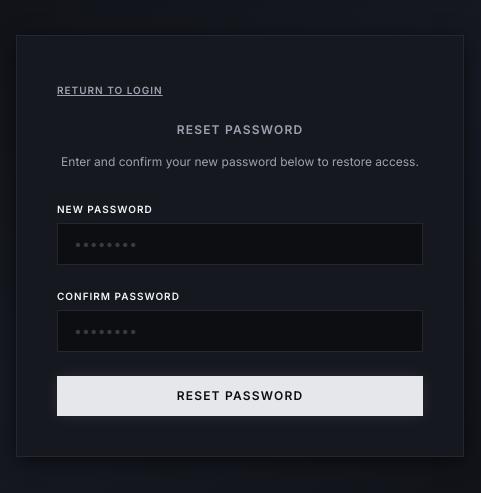
ChangePassword Page › should show error from backend
Step 1. Type "newpass123" into the password field with placeholder "••••••••" → (240, 244), box [57,223,423,265]
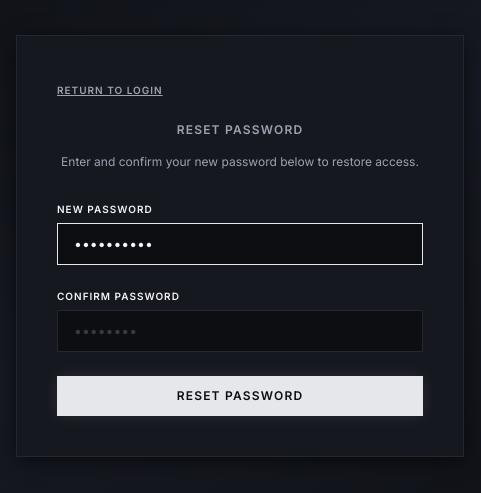
Step 2. Type "newpass123" into the password field with placeholder "••••••••" → (240, 331), box [57,310,423,352]
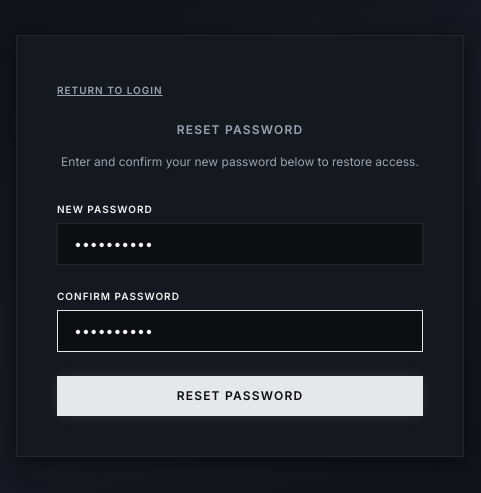
Step 3. Click the button "Reset Password" → (240, 396), box [57,376,423,416]
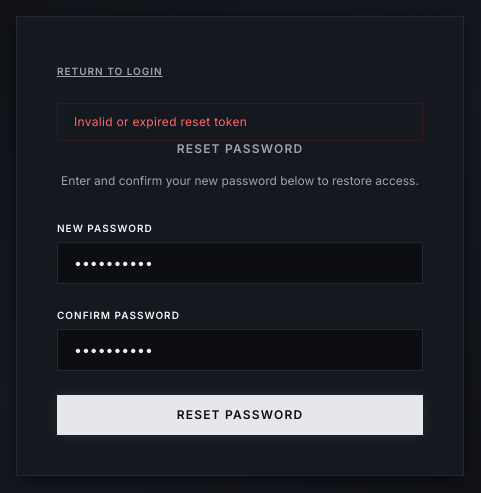
expect the text "Invalid or expired reset token" is shown: met, box [57,103,423,141]
